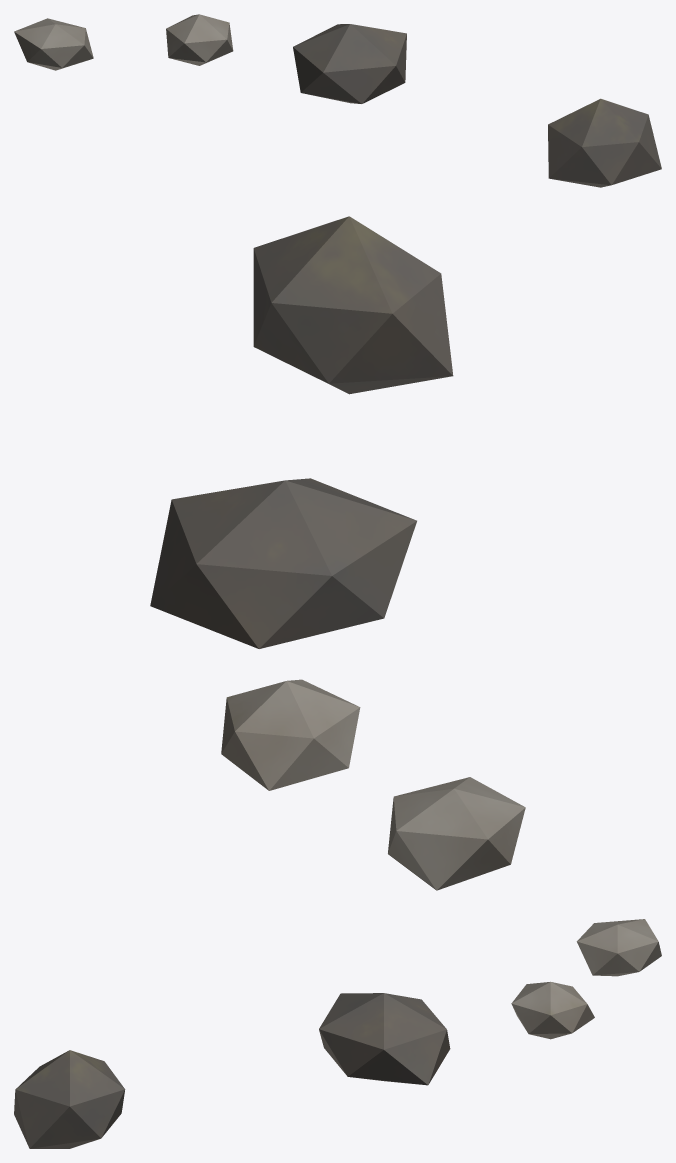
File: seixos.glb
3 views of the same model, one above another, from view 1: azimuth 30°, elevation 25°; view 2: azimuth 150°, elevation 25°; view 3: azimuth 270°, elevation 25° (orthographic). The views are drawn at different scales.
Parts seen in each view (by area): view 1: seixos; view 2: seixos; view 3: seixos.
Boxes of the visible parts, x1,y1,x2,y2 form: seixos: [14, 14, 661, 187]; seixos: [150, 216, 525, 890]; seixos: [14, 919, 661, 1148].
Bounding box in the file's own units: 0.4446 × 0.1006 × 0.597.
1 material, 1 textured.
